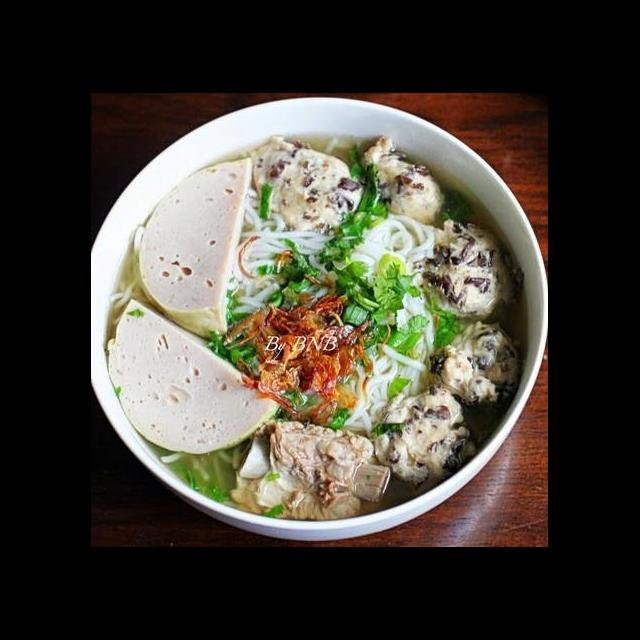bun: (220, 191, 444, 436)
bun moc: (111, 120, 548, 547)
thit heo: (225, 413, 376, 527)
vien moc: (244, 126, 366, 240), (362, 383, 478, 488), (416, 217, 526, 327), (424, 317, 522, 409), (360, 131, 450, 224)
